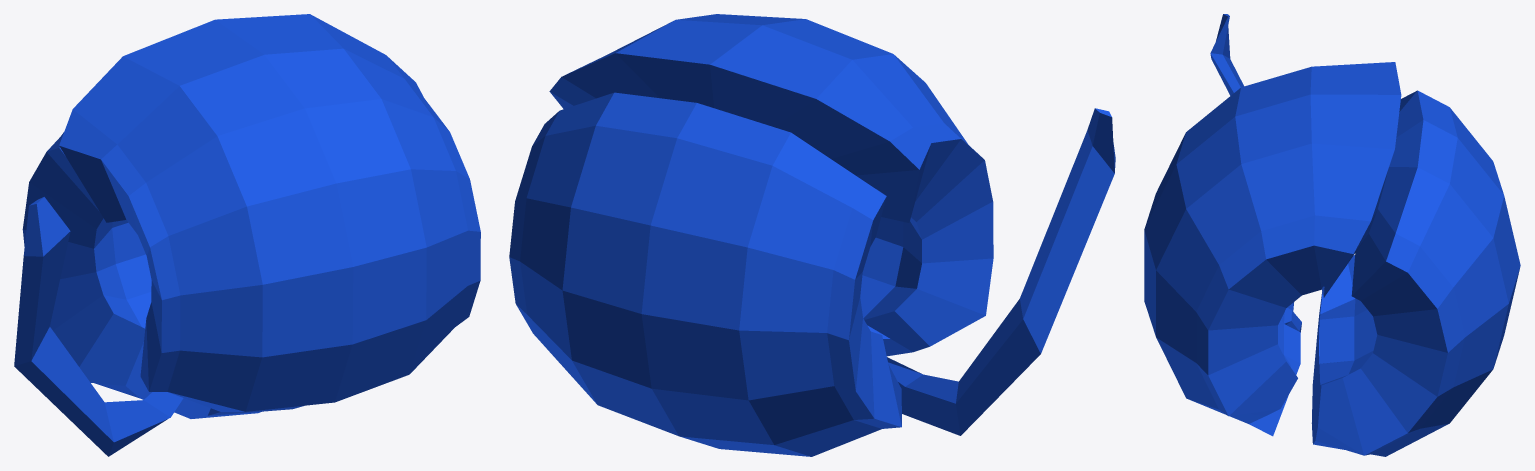
The model's file is isopod.glb.
3 views of the same model, side by side, from view 1: azimuth 30°, elevation 25°; view 2: azimuth 150°, elevation 25°; view 3: azimuth 270°, elevation 25° (orthographic). The views are drawn at different scales.
Parts seen in each view (by area): view 1: Cylinder; view 2: Cylinder; view 3: Cylinder.
Boxes of the visible parts, x1,y1,x2,y2 form: Cylinder: (14,14,480,456); Cylinder: (509,14,1115,456); Cylinder: (1144,14,1520,456).
Bounding box in the file's own units: 2 × 1.51 × 1.54.
